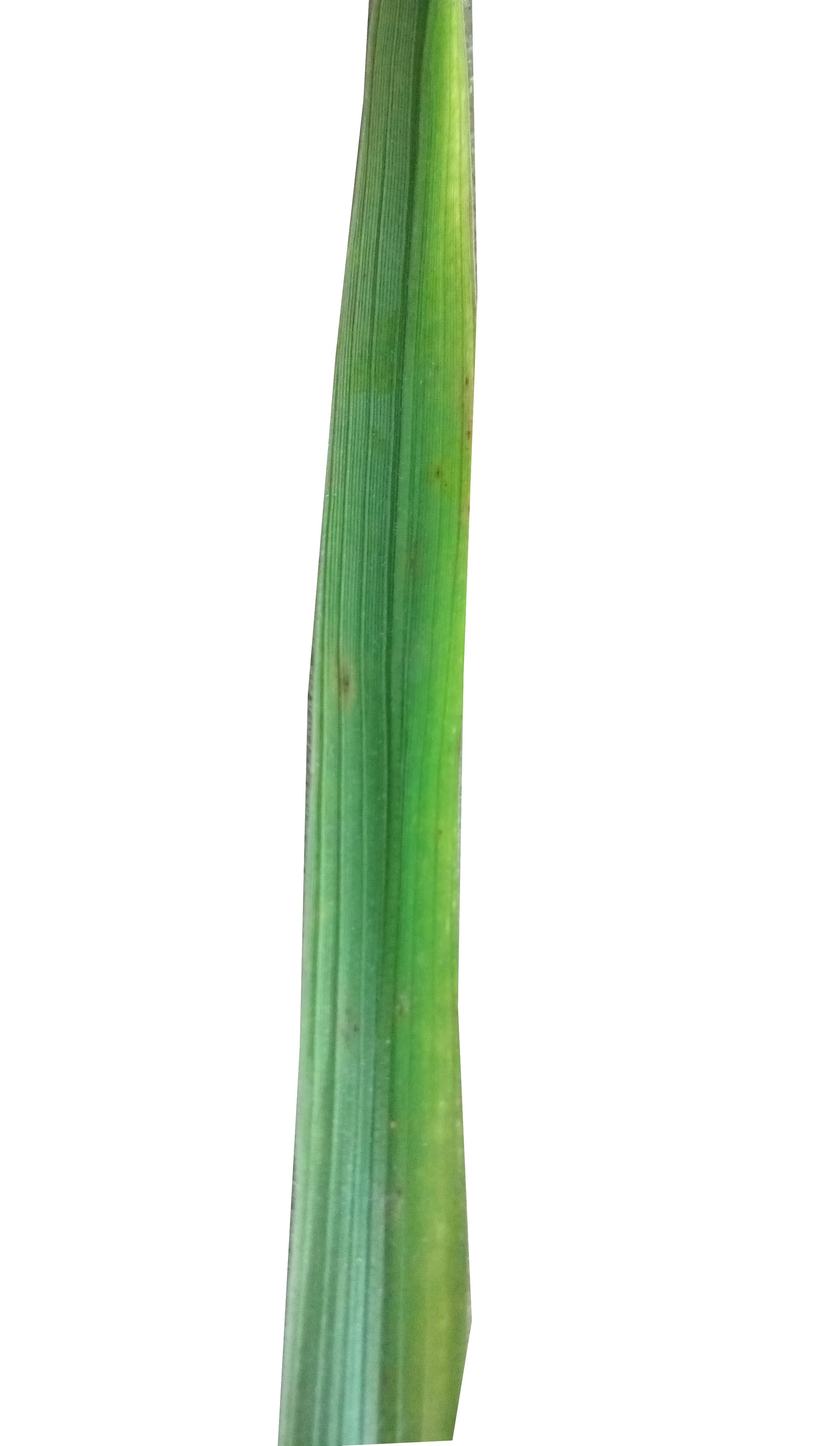Tungro: (400, 35, 476, 1439)
